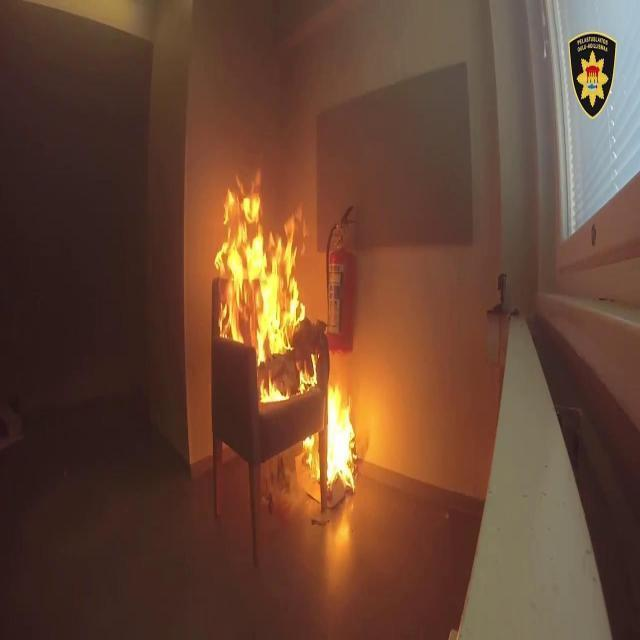smoke: (212, 166, 315, 404), (301, 380, 363, 495)
